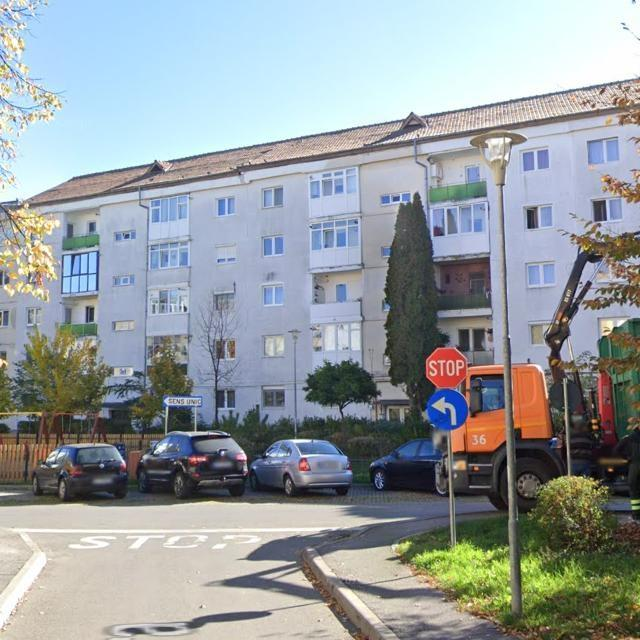prio_stop: (424, 347, 470, 389)
